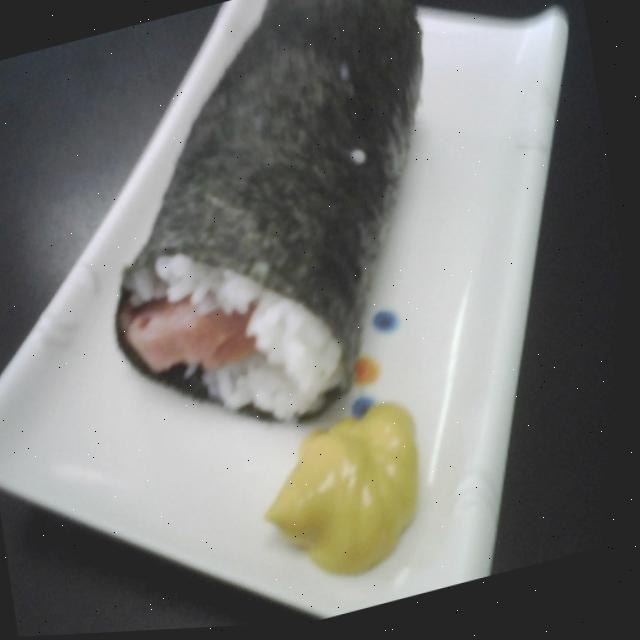寿司卷物: (36, 0, 514, 477)
